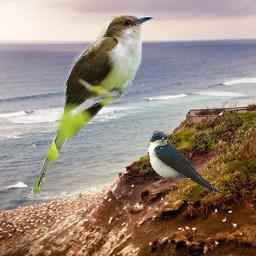Cuckoo: (30, 13, 154, 197)
Swallow: (148, 131, 222, 194)
